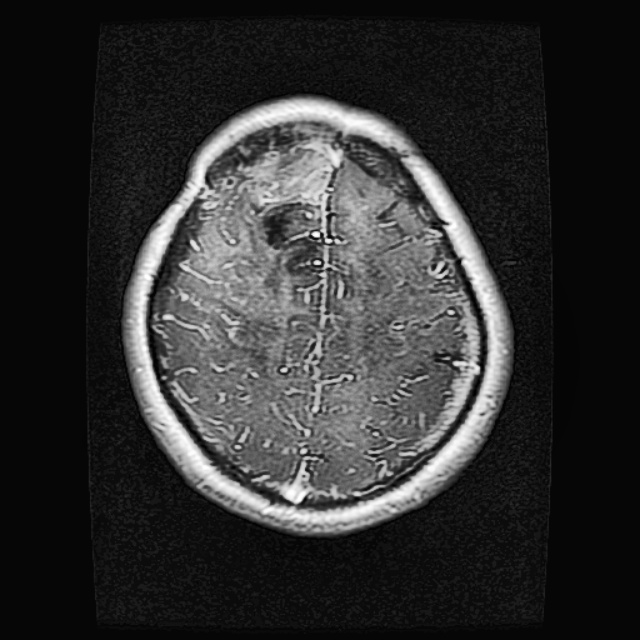Meningioma: (215, 142, 337, 285)
